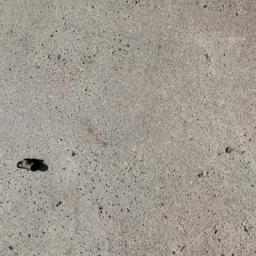FOD: (17, 155, 52, 175)
